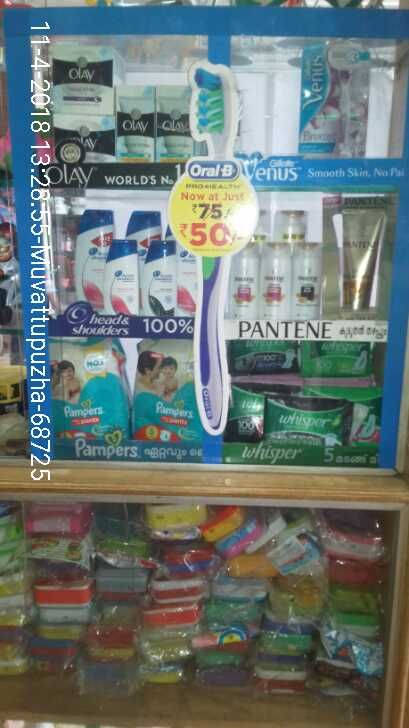venus: (300, 40, 370, 159)
